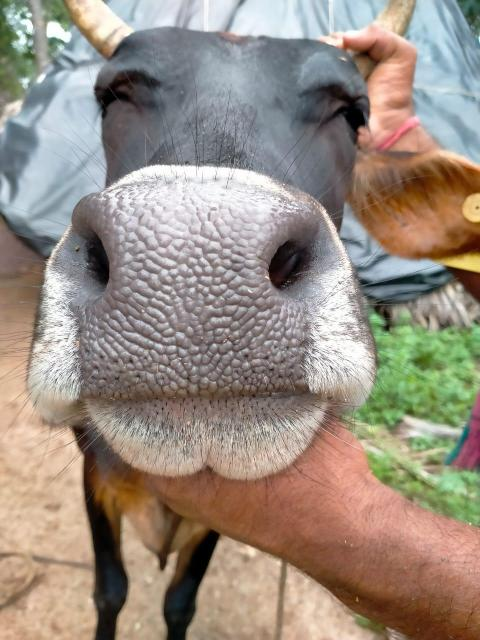Muzzle: (77, 192, 325, 422)
